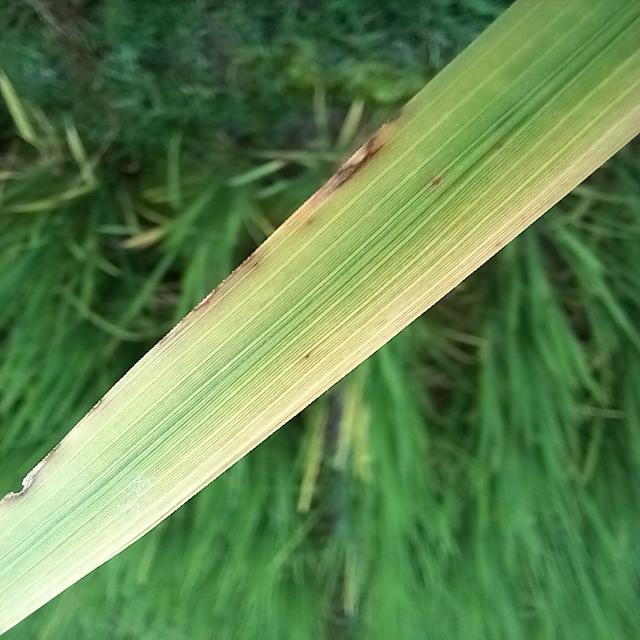Rice Tungro: (183, 252, 255, 317), (324, 129, 383, 199)
